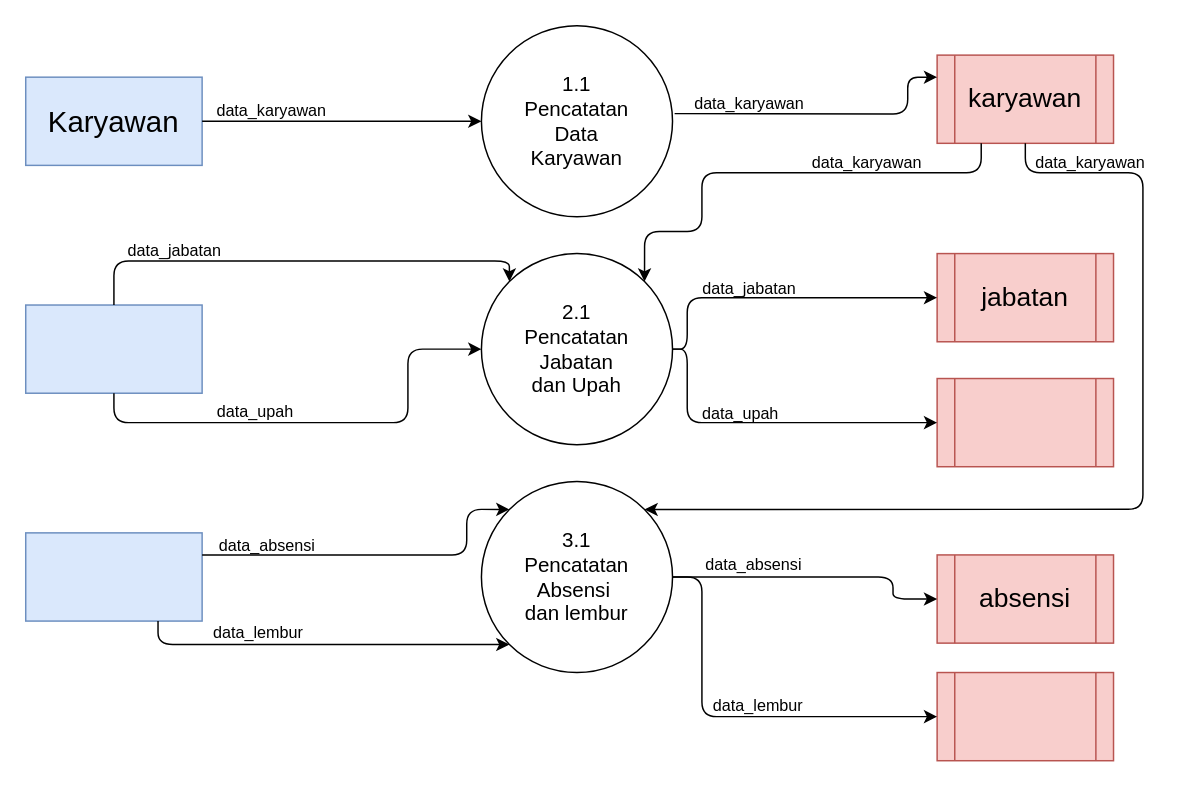
Some shapes in this 1180 by 786 pixel diagram are drawn without their labels. The shapes that lost their labels are listed below. From the top down, each one's centre as x and y in pixels, then its label:
point 113,348: Direktur
point 1025,422: upah
point 113,576: Personalia
point 1025,716: lembur
